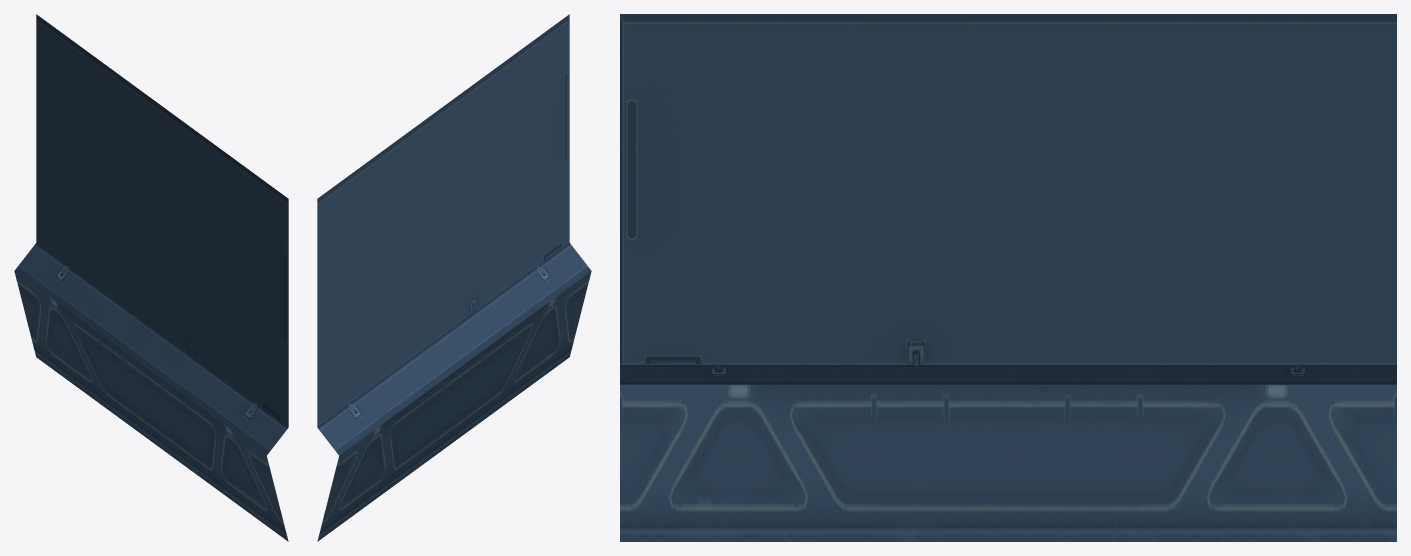
File: WallBlue.gltf
3 views of the same model, side by side, from view 1: azimuth 30°, elevation 25°; view 2: azimuth 150°, elevation 25°; view 3: azimuth 270°, elevation 25° (orthographic). The views are drawn at different scales.
Visible parts, largest first — view 1: WallBand_Straight; view 2: WallBand_Straight; view 3: WallBand_Straight.
Boxes of the visible parts, bbox=[...] form: WallBand_Straight: bbox=[14, 14, 288, 541]; WallBand_Straight: bbox=[317, 14, 591, 541]; WallBand_Straight: bbox=[620, 14, 1396, 541].
Bounding box in the file's own units: 0.2 × 3 × 4.
2 materials, 2 textured.
